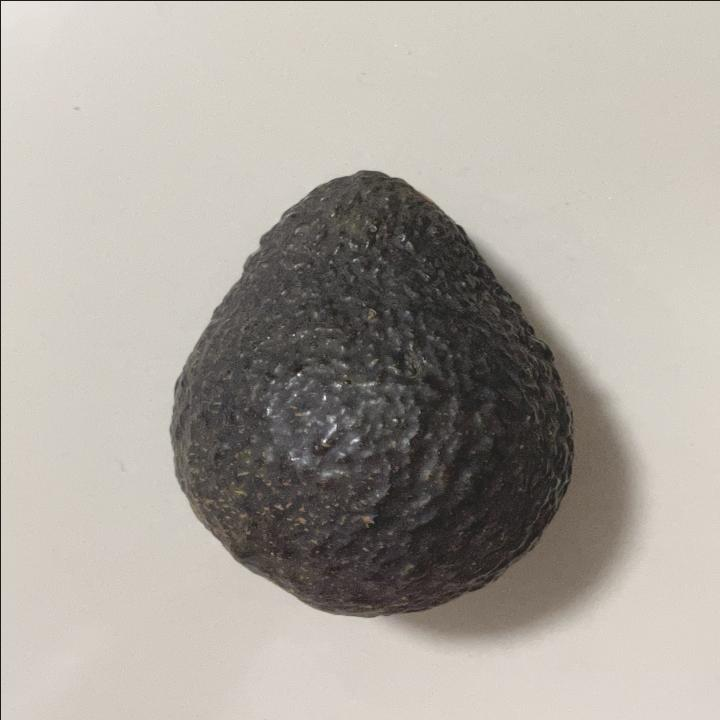Level2: (159, 162, 585, 622)
